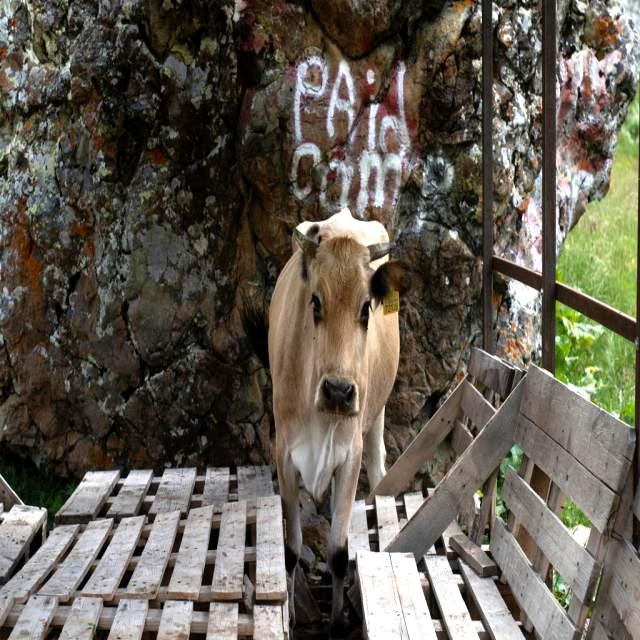COW: (269, 209, 409, 619)
